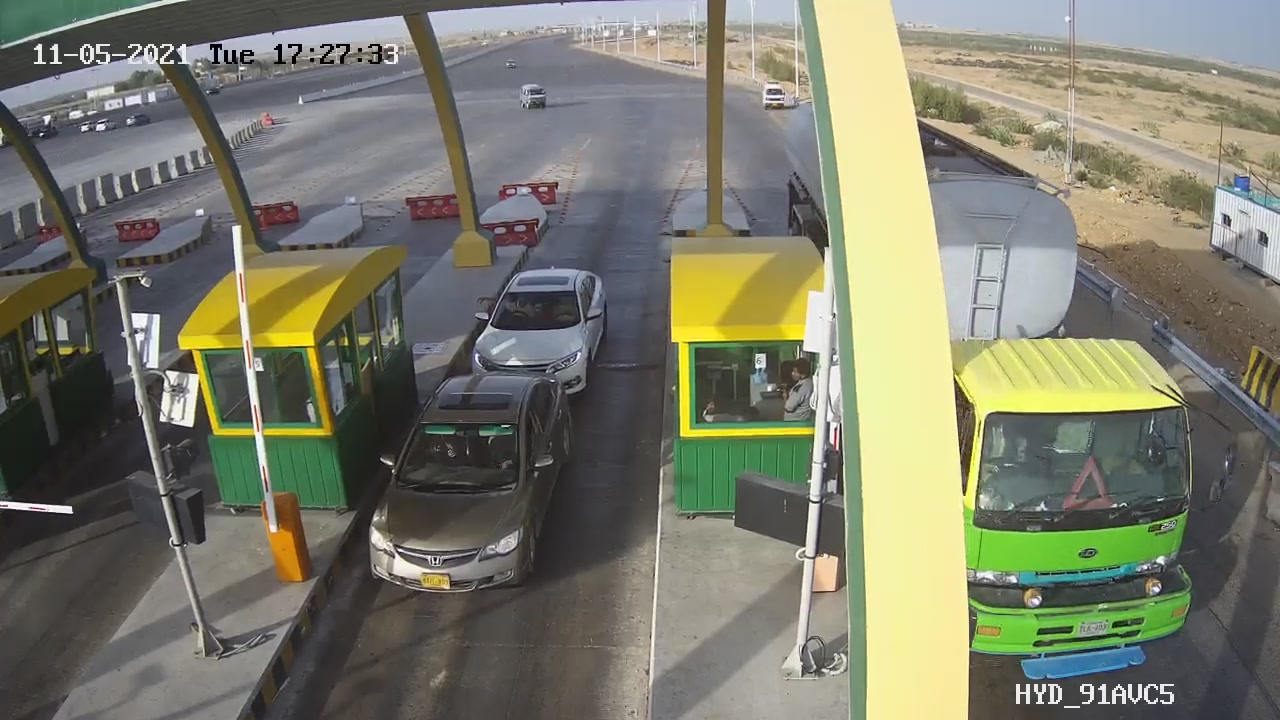F1: (348, 357, 596, 613), (456, 256, 626, 409)
